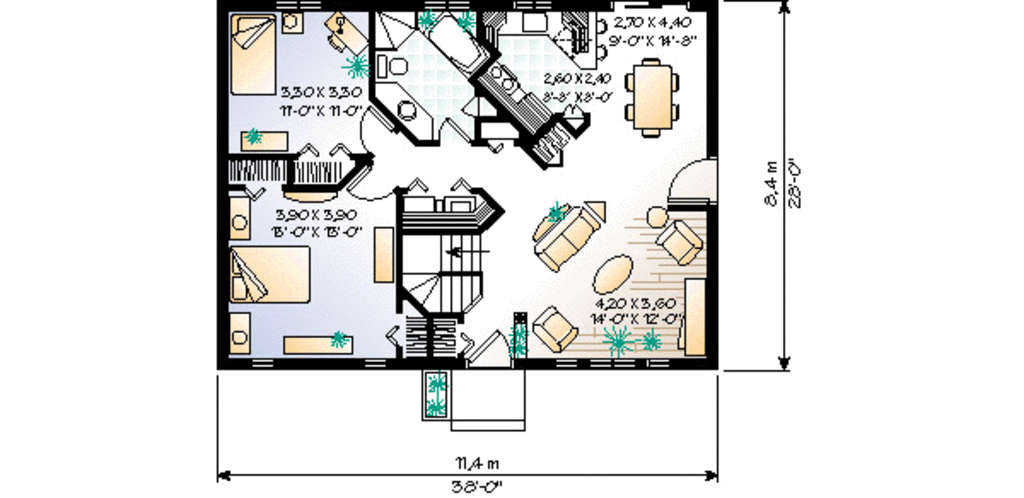bed: (227, 243, 312, 304), (229, 10, 281, 101)
dining_table: (622, 47, 683, 147)
door: (667, 158, 722, 202), (465, 331, 518, 368), (354, 108, 395, 155), (346, 167, 397, 202)
large_sink: (374, 52, 413, 83)
large_sofa: (524, 203, 608, 278)
small_sink: (384, 87, 428, 126)
small_sofa: (532, 303, 586, 352), (649, 221, 703, 266)
stairs: (402, 229, 491, 315)
window: (590, 356, 636, 372), (359, 352, 393, 371), (245, 355, 279, 373), (551, 358, 579, 372)
